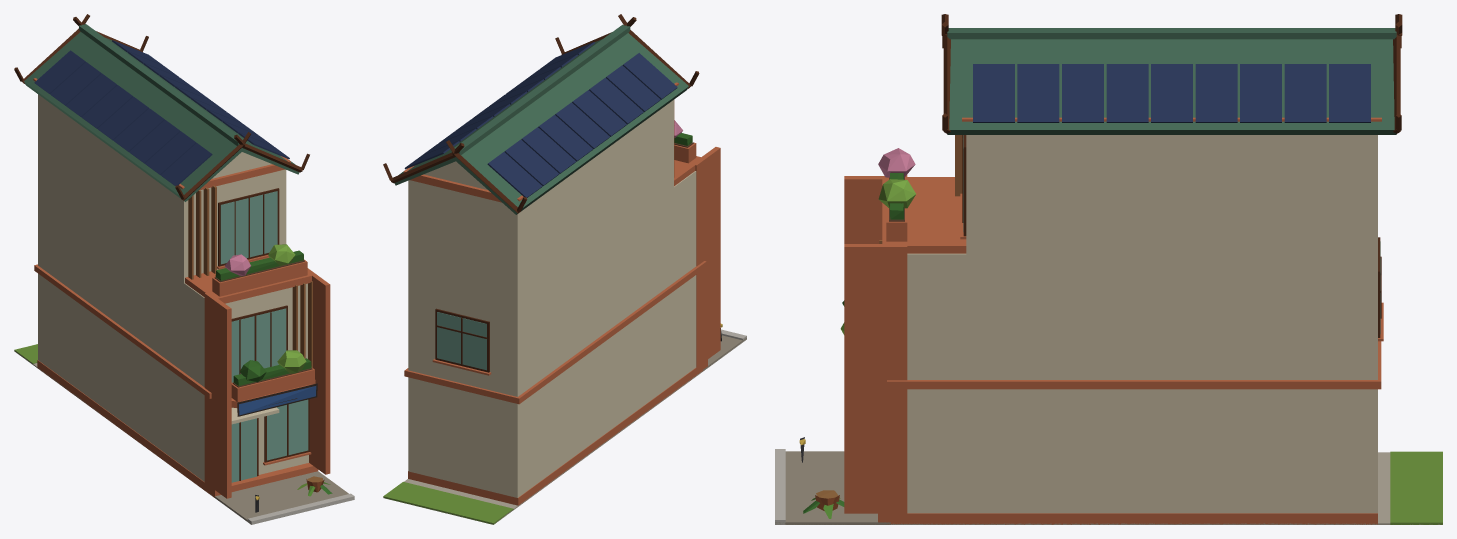
File: bay1_mid.glb
The picture shows the model from 3 angles, left to right: view 1: azimuth 30°, elevation 25°; view 2: azimuth 150°, elevation 25°; view 3: azimuth 270°, elevation 25°; orthographic projection. The views are drawn at different scales.
Parts seen in each view (by area): view 1: body; view 2: body; view 3: body.
Part boxes in pixels (x1,y1,x2,y2): body: (14,14,354,524); body: (383,14,746,524); body: (775,14,1442,524).
Bounding box in the file's own units: 5.23 × 12.39 × 15.9.
